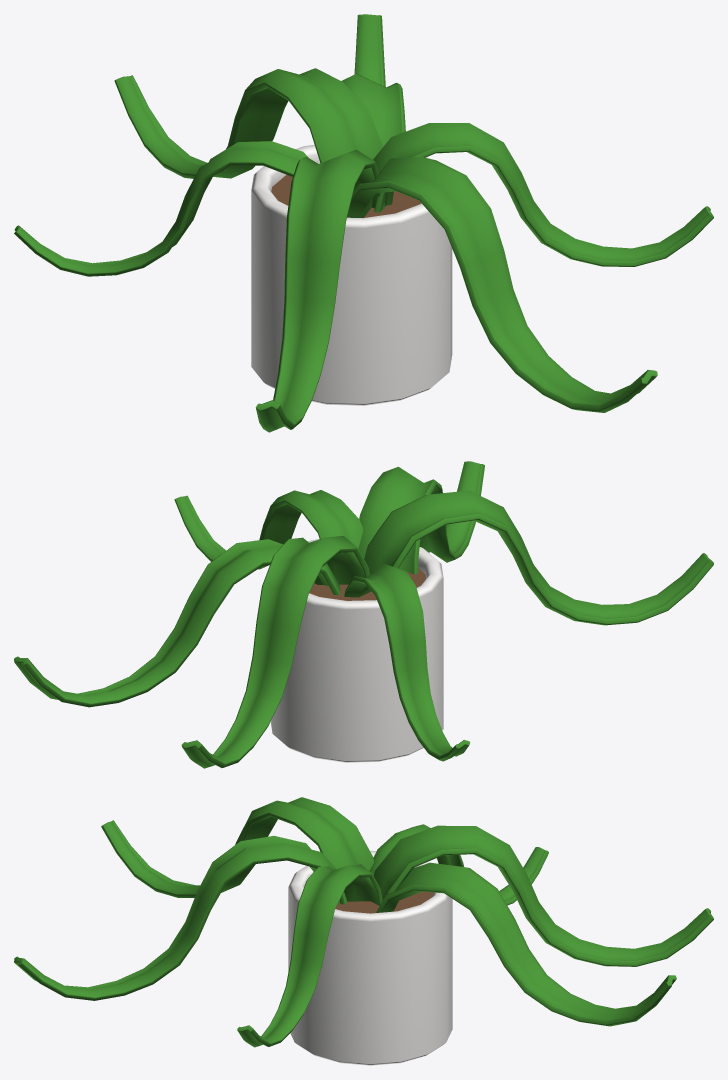
File: Plant_11.glb
3 views of the same model, one above another, from view 1: azimuth 30°, elevation 25°; view 2: azimuth 150°, elevation 25°; view 3: azimuth 270°, elevation 25° (orthographic). The views are drawn at different scales.
Visible parts, largest first — view 1: Plant_11; view 2: Plant_11; view 3: Plant_11.
Part boxes in pixels (x1=…): Plant_11: x1=14, y1=14, x2=713, y2=432; Plant_11: x1=14, y1=461, x2=713, y2=768; Plant_11: x1=14, y1=797, x2=713, y2=1065.
Bounding box in the file's own units: 0.5294 × 0.2364 × 0.7328.
1 material, 1 textured.
